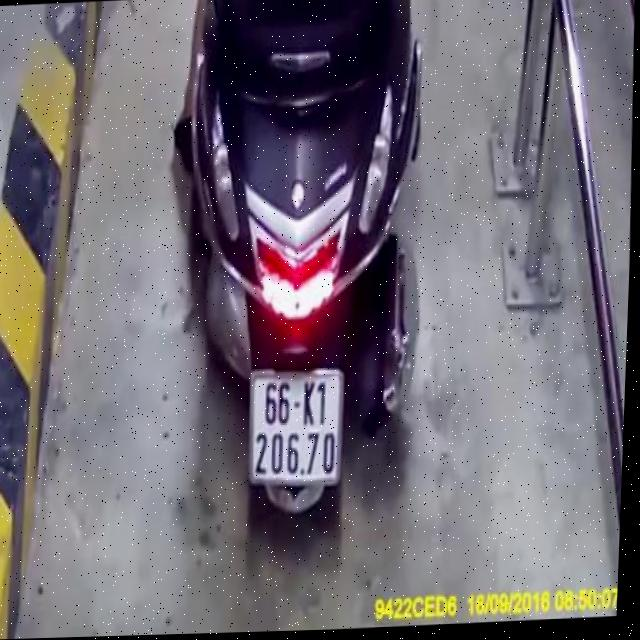motorcycle: (165, 0, 440, 536)
plate: (238, 362, 349, 490)
